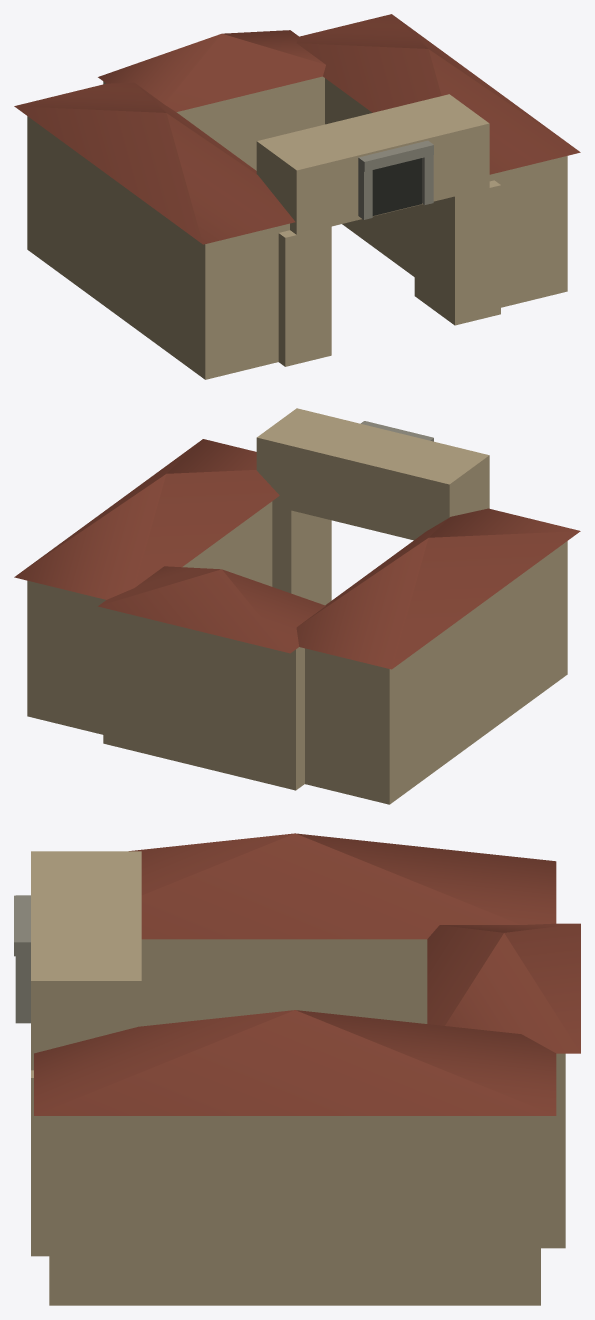
File: custom-cb-caravanserai.glb
The picture shows the model from 3 angles, top to bottom: view 1: azimuth 30°, elevation 25°; view 2: azimuth 150°, elevation 25°; view 3: azimuth 270°, elevation 25°; orthographic projection. The views are drawn at different scales.
Parts seen in each view (by area): view 1: custom-cb-caravanserai; view 2: custom-cb-caravanserai; view 3: custom-cb-caravanserai.
Part boxes in pixels (x1,y1,x2,y2): custom-cb-caravanserai: [14, 14, 580, 379]; custom-cb-caravanserai: [14, 408, 580, 804]; custom-cb-caravanserai: [14, 833, 580, 1305].
Bounding box in the file's own units: 1 × 0.4898 × 0.9413.
